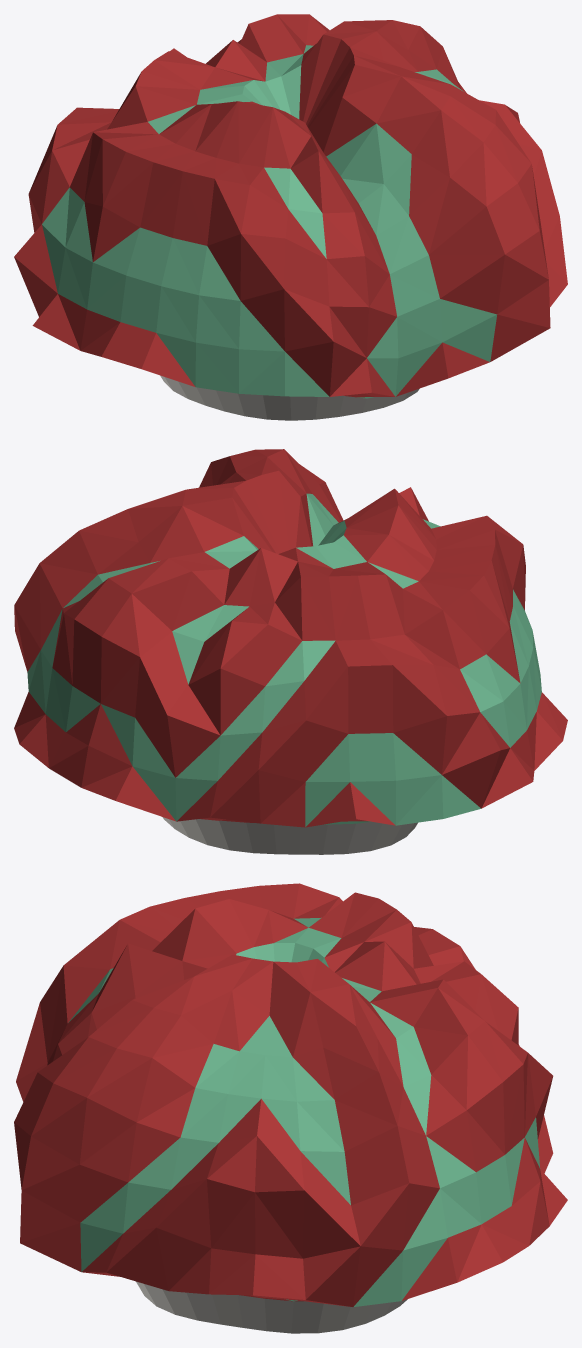
The model's file is open-brain-coral.glb.
The picture shows the model from 3 angles, top to bottom: view 1: azimuth 30°, elevation 25°; view 2: azimuth 150°, elevation 25°; view 3: azimuth 270°, elevation 25°; orthographic projection. The views are drawn at different scales.
Visible parts, largest first — view 1: open-brain-coral-shell; view 2: open-brain-coral-shell; view 3: open-brain-coral-shell.
Boxes of the visible parts, x1,y1,x2,y2 form: open-brain-coral-shell: (14,14,567,420); open-brain-coral-shell: (14,449,567,854); open-brain-coral-shell: (14,883,567,1333).
Bounding box in the file's own units: 0.22 × 0.1312 × 0.1951.
